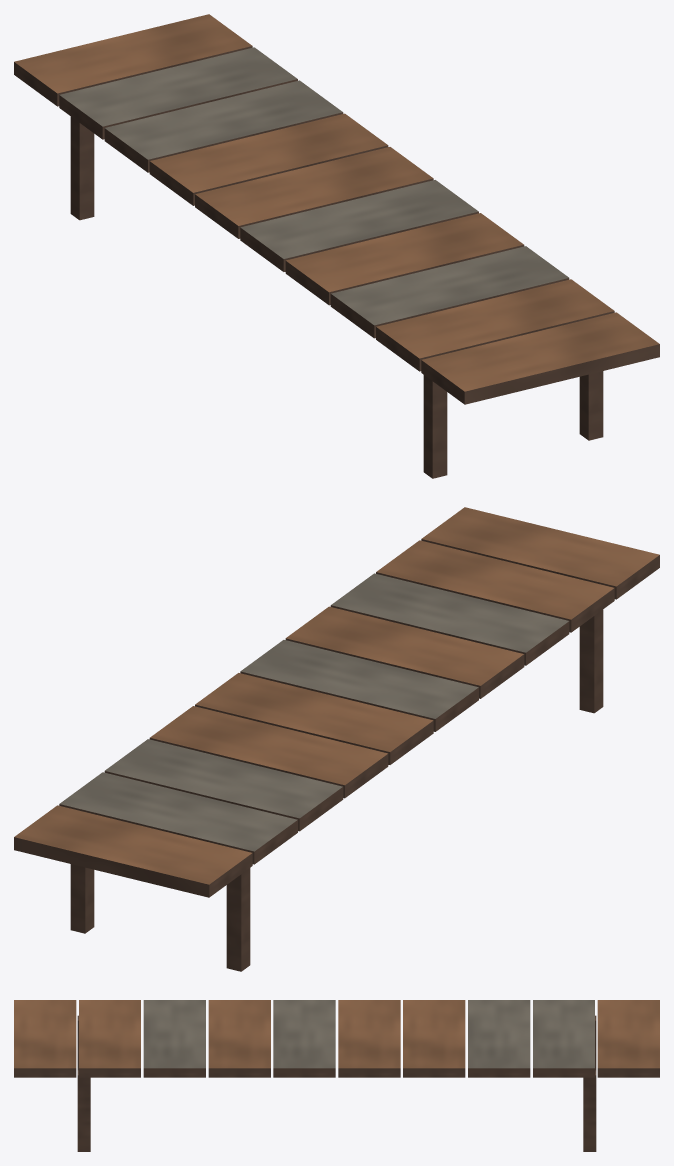
The model's file is dock_pier.fbx.
3 renders of one model, top to bottom at view 1: azimuth 30°, elevation 25°; view 2: azimuth 150°, elevation 25°; view 3: azimuth 270°, elevation 25°, orthographic. The views are drawn at different scales.
Parts seen in each view (by area): view 1: dock_pier; view 2: dock_pier; view 3: dock_pier.
Part boxes in pixels (x1=…): dock_pier: x1=14, y1=14, x2=659, y2=478; dock_pier: x1=14, y1=507, x2=659, y2=971; dock_pier: x1=14, y1=1000, x2=659, y2=1151.
Size of the model in its own units: 200 by 120 by 800.
1 material, 1 textured.
